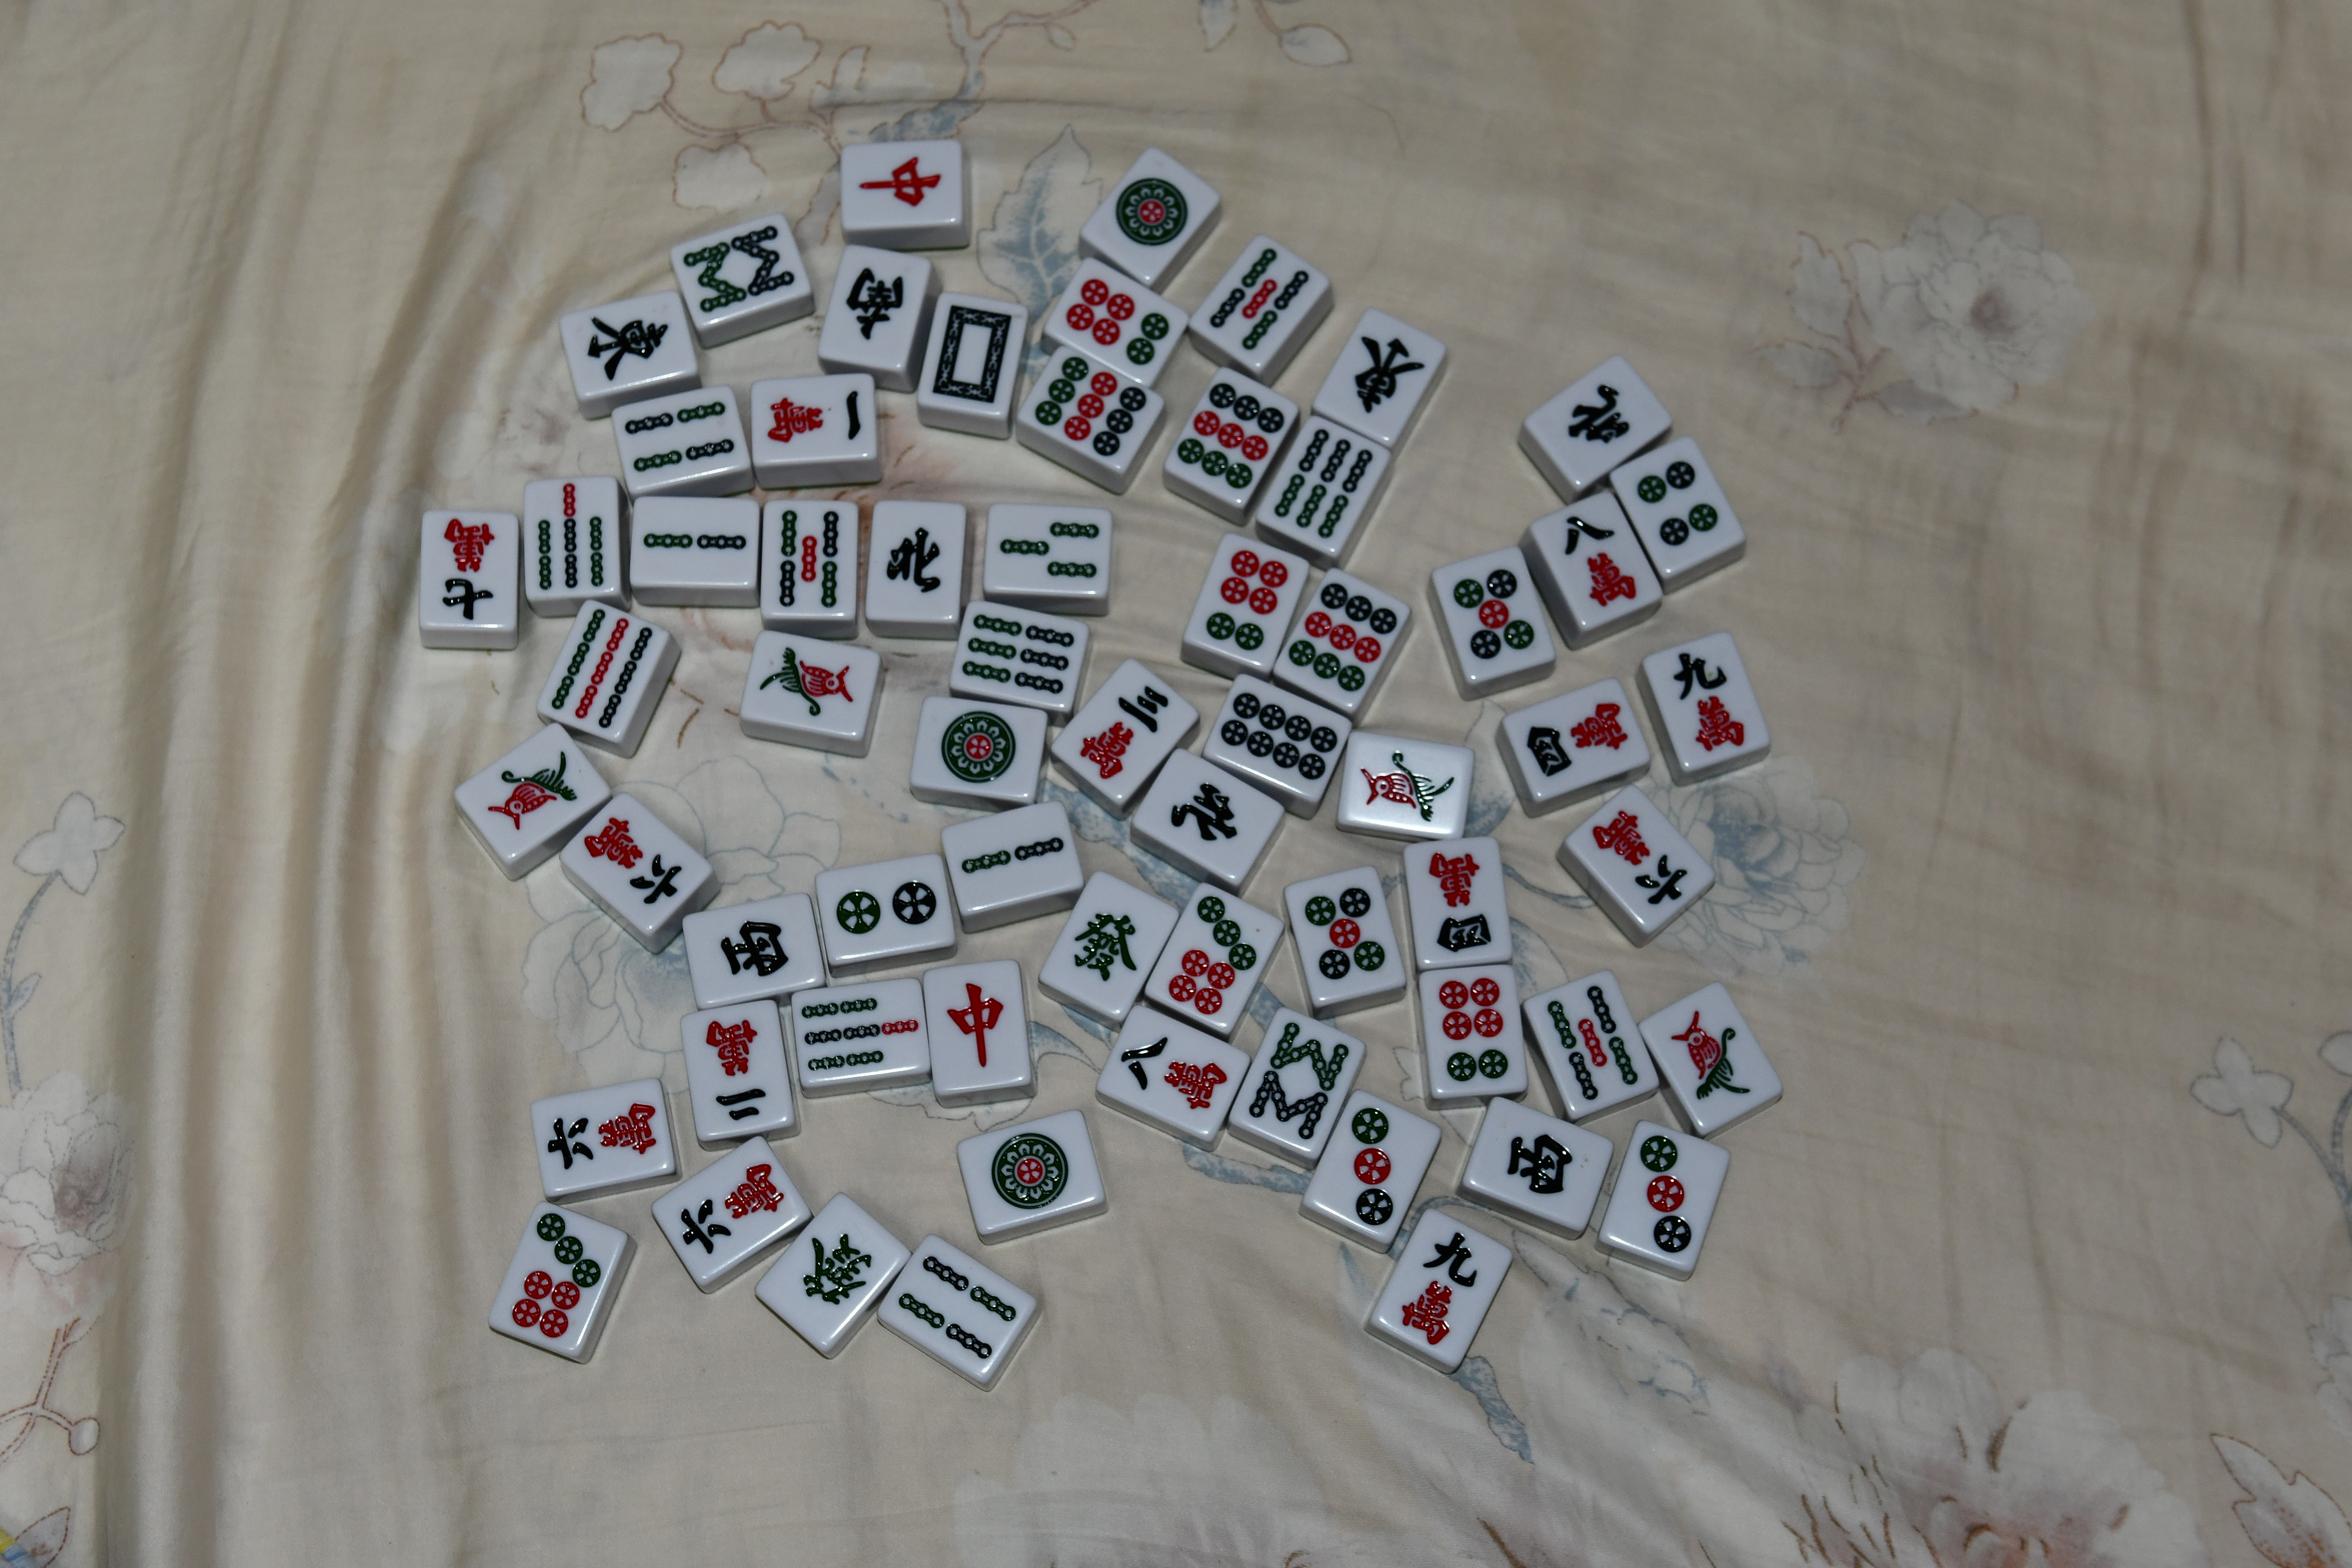b-1: (1668, 1010, 1752, 1104), (758, 642, 856, 723), (1358, 747, 1458, 824), (488, 746, 578, 831)
b-2: (957, 835, 1069, 882), (641, 527, 751, 560)
b-3: (998, 520, 1103, 581)
b-4: (898, 1251, 1017, 1365), (620, 401, 739, 473)
b-5: (1545, 982, 1638, 1106), (775, 502, 847, 613)
b-6: (1272, 427, 1376, 546), (961, 613, 1076, 704)
b-7: (800, 994, 922, 1073), (530, 481, 609, 593)
b-8: (1246, 1022, 1348, 1141), (679, 224, 798, 317)
b-9: (551, 607, 653, 728)
c-1: (761, 383, 865, 451)
c-2: (698, 1017, 772, 1123)
c-3: (1078, 684, 1172, 779)
c-4: (1523, 698, 1634, 780), (1423, 847, 1500, 954)
c-6: (1587, 805, 1692, 906), (676, 1162, 786, 1257), (583, 812, 684, 912), (537, 1099, 660, 1176)
c-7: (436, 514, 497, 623)
c-8: (1120, 1033, 1232, 1115), (1561, 511, 1640, 614)
c-9: (1397, 1230, 1482, 1346), (1668, 647, 1752, 753)
d-1: (931, 707, 1022, 786), (989, 1132, 1067, 1213), (1113, 177, 1188, 247)
d-2: (828, 875, 942, 942)
d-3: (1636, 1132, 1698, 1257), (1349, 1106, 1397, 1225)
d-4: (1636, 459, 1720, 548)
d-5: (1204, 243, 1311, 352), (1299, 880, 1391, 982), (1449, 567, 1533, 663)
d-6: (1062, 277, 1171, 366), (1202, 549, 1290, 651), (1435, 973, 1514, 1085)
d-7: (509, 1211, 604, 1337), (1167, 893, 1257, 1017)
d-8: (1220, 690, 1342, 784)
d-9: (1288, 581, 1397, 695), (1031, 355, 1148, 459), (1176, 382, 1286, 490)
honors-east: (576, 311, 672, 378), (1348, 331, 1425, 413)
honors-green: (1071, 905, 1141, 992), (798, 1232, 877, 1306)
honors-north: (1561, 382, 1638, 453), (882, 520, 950, 600), (1167, 777, 1242, 847)
honors-red: (949, 976, 1006, 1071), (847, 154, 947, 208)
honors-south: (842, 266, 915, 347)
honors-west: (1503, 1131, 1575, 1199), (718, 915, 789, 982)
honors-white: (933, 303, 1013, 404)
